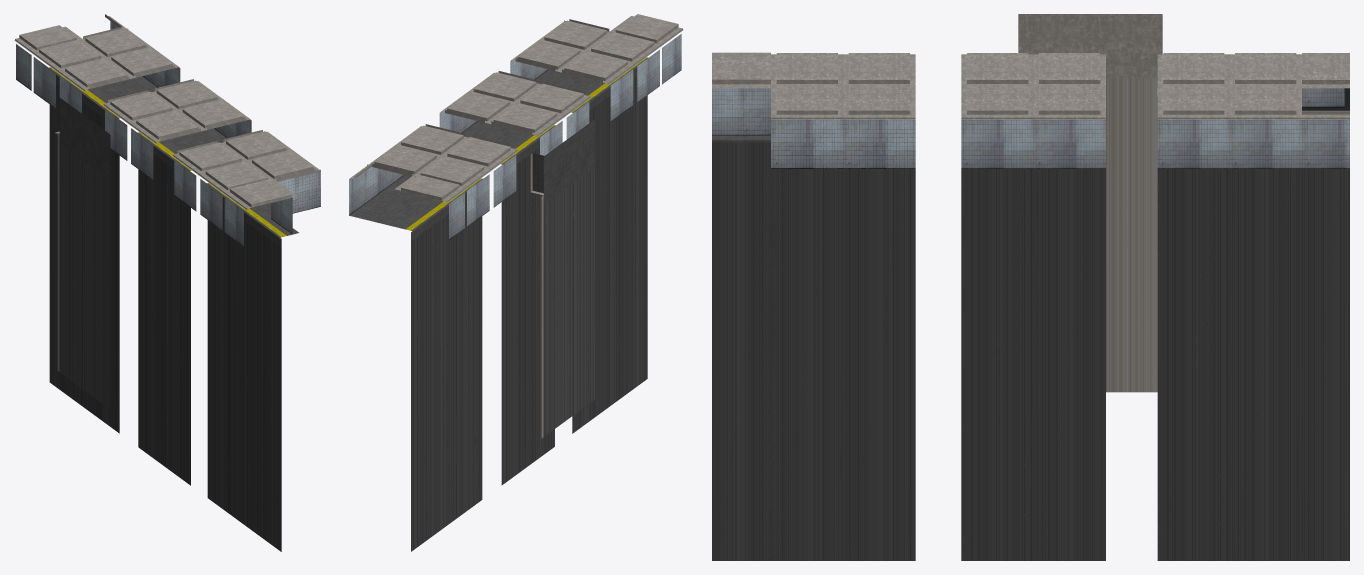
Rendered from Metro.glb.
3 renders of one model, left to right at view 1: azimuth 30°, elevation 25°; view 2: azimuth 150°, elevation 25°; view 3: azimuth 270°, elevation 25°, orthographic. The views are drawn at different scales.
Visible parts, largest first — view 1: St_02, St_01, St, St_05; view 2: St, St_02, St_01, St_05; view 3: St_02, St, St_01, St_05.
Part boxes in pixels (x1,y1,x2,y2): St_02: [172, 130, 320, 551]; St_01: [103, 79, 251, 485]; St: [14, 14, 180, 433]; St_05: [55, 92, 110, 408]; St: [349, 124, 517, 551]; St_02: [510, 14, 683, 433]; St_01: [439, 71, 590, 485]; St_05: [530, 118, 596, 438]; St_02: [712, 52, 915, 560]; St: [1157, 53, 1349, 560]; St_01: [961, 53, 1105, 560]; St_05: [1018, 14, 1162, 392].
Bounding box in the file's own units: 21.55 × 46.7 × 55.3.
Materials: 7 (7 with a texture image).
